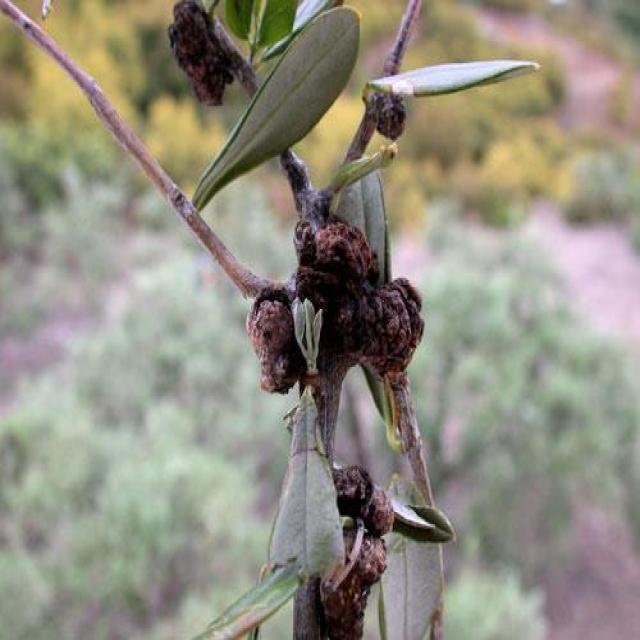Tuberculosis: (294, 215, 422, 399), (321, 468, 393, 638), (168, 0, 242, 104), (246, 284, 306, 392), (364, 84, 404, 140)
